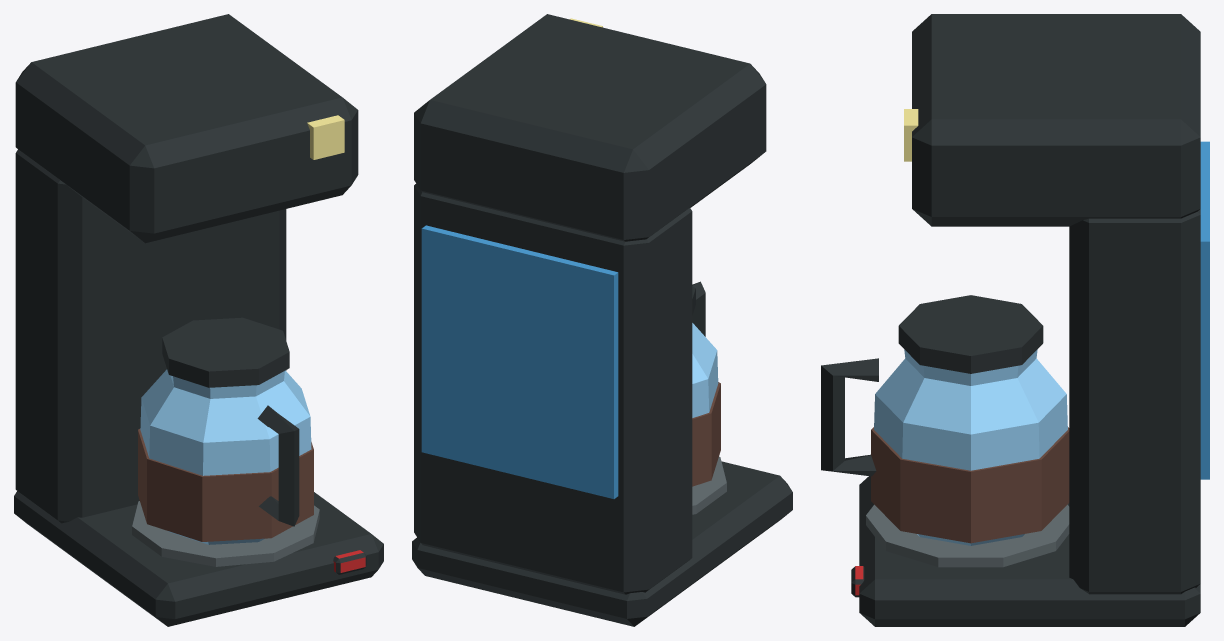
File: kaffeemaschine.glb
The picture shows the model from 3 angles, left to right: view 1: azimuth 30°, elevation 25°; view 2: azimuth 150°, elevation 25°; view 3: azimuth 270°, elevation 25°; orthographic projection. The views are drawn at different scales.
Visible parts, largest first — view 1: kaffeemaschine-m; view 2: kaffeemaschine-m; view 3: kaffeemaschine-m.
Boxes of the visible parts, x1,y1,x2,y2 form: kaffeemaschine-m: (14,14,383,626); kaffeemaschine-m: (412,14,792,626); kaffeemaschine-m: (821,14,1209,626).
Bounding box in the file's own units: 0.22 × 0.425 × 0.2962.
